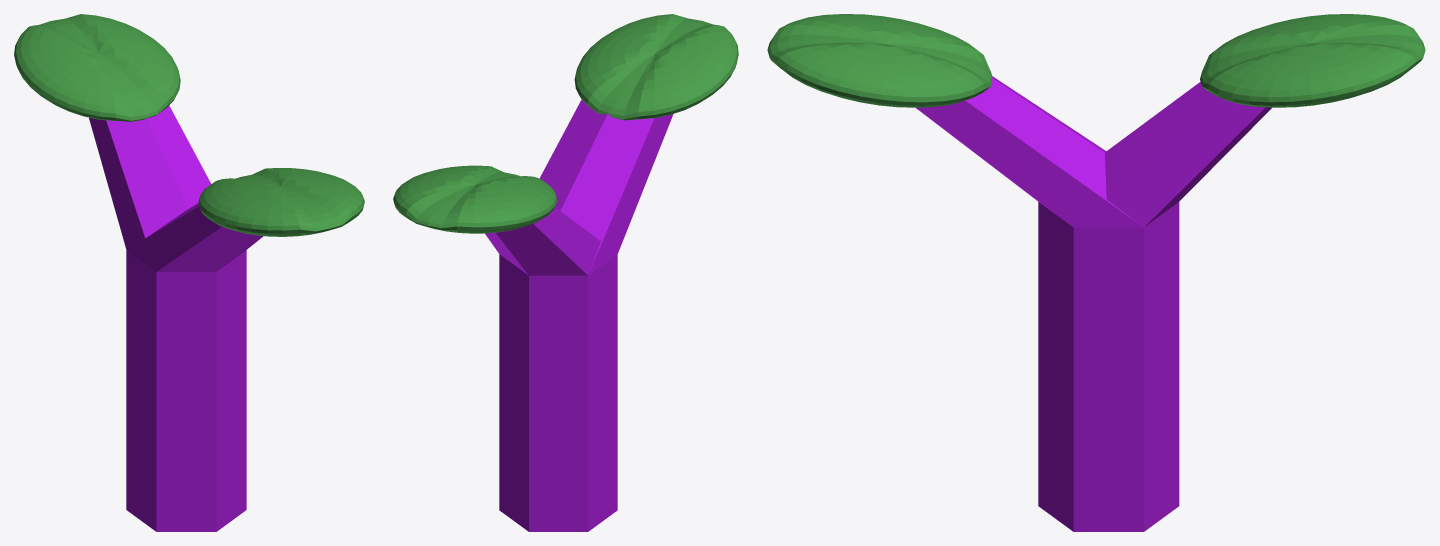
The model's file is sapling.fbx.
The picture shows the model from 3 angles, left to right: view 1: azimuth 30°, elevation 25°; view 2: azimuth 150°, elevation 25°; view 3: azimuth 270°, elevation 25°; orthographic projection. The views are drawn at different scales.
Visible parts, largest first — view 1: Sphere; view 2: Sphere; view 3: Sphere.
Part boxes in pixels (bbox=[...]): Sphere: bbox=[14, 14, 364, 531]; Sphere: bbox=[393, 14, 738, 531]; Sphere: bbox=[767, 14, 1425, 531].
Bounding box in the file's own units: 261 × 736 × 935.
